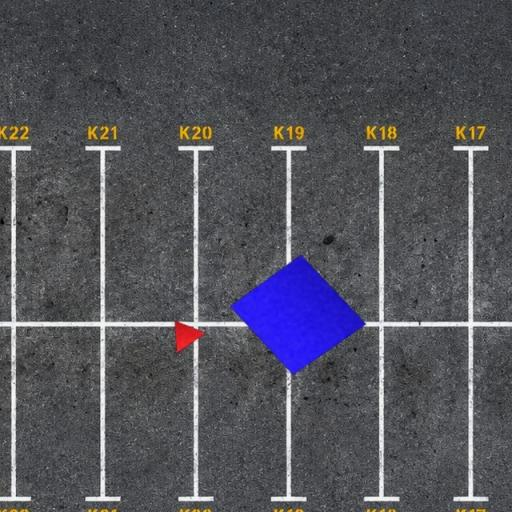BLUE_SQUARE: (230, 254, 367, 376)
